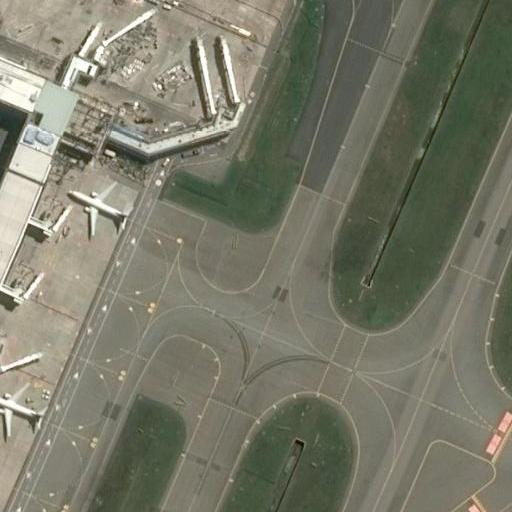Aircraft: (68, 178, 132, 236), (0, 378, 47, 437)
